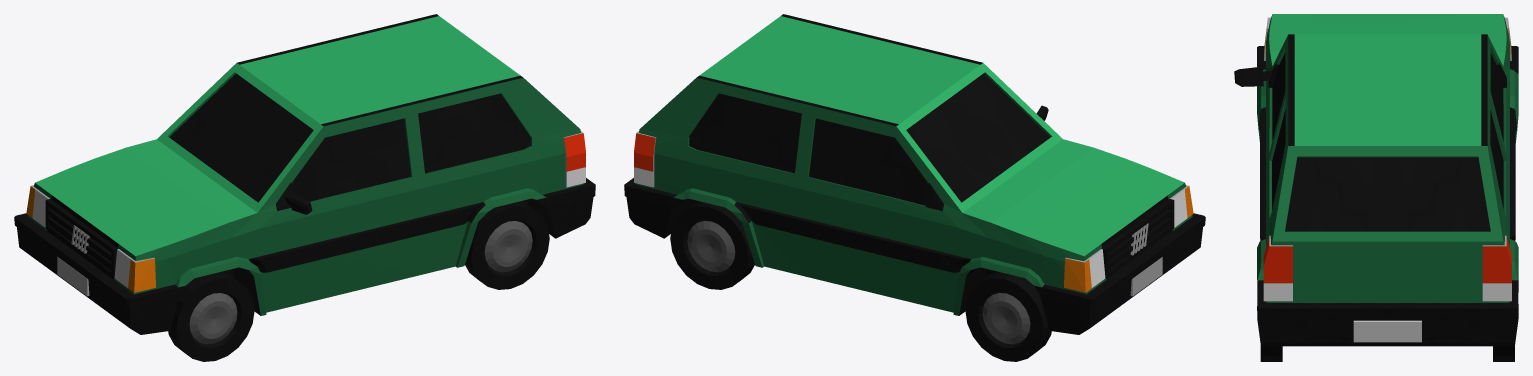
Rendered from Pandino_verde.fbx.
3 renders of one model, left to right at view 1: azimuth 30°, elevation 25°; view 2: azimuth 150°, elevation 25°; view 3: azimuth 270°, elevation 25°, orthographic. The views are drawn at different scales.
Parts seen in each view (by area): view 1: Pandino_Verde; view 2: Pandino_Verde; view 3: Pandino_Verde.
Boxes of the visible parts, x1=… form: Pandino_Verde: x1=14, y1=14, x2=595, y2=361; Pandino_Verde: x1=624, y1=14, x2=1205, y2=361; Pandino_Verde: x1=1234, y1=14, x2=1518, y2=361.
Bounding box in the file's own units: 20.63 × 8.25 × 9.44.
